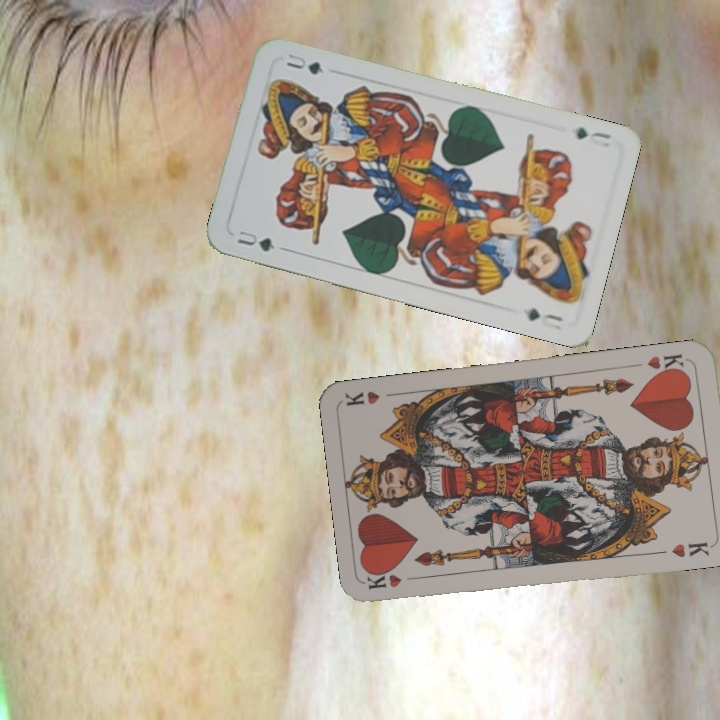GU: (233, 226, 278, 254), (571, 123, 615, 144)
HK: (643, 350, 691, 378), (364, 570, 424, 592)
